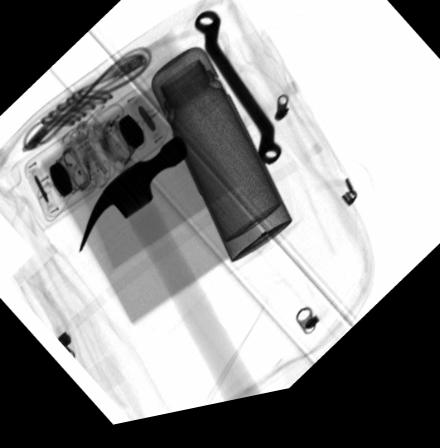Hammer: (77, 141, 263, 411)
Wrench: (193, 17, 281, 175)
